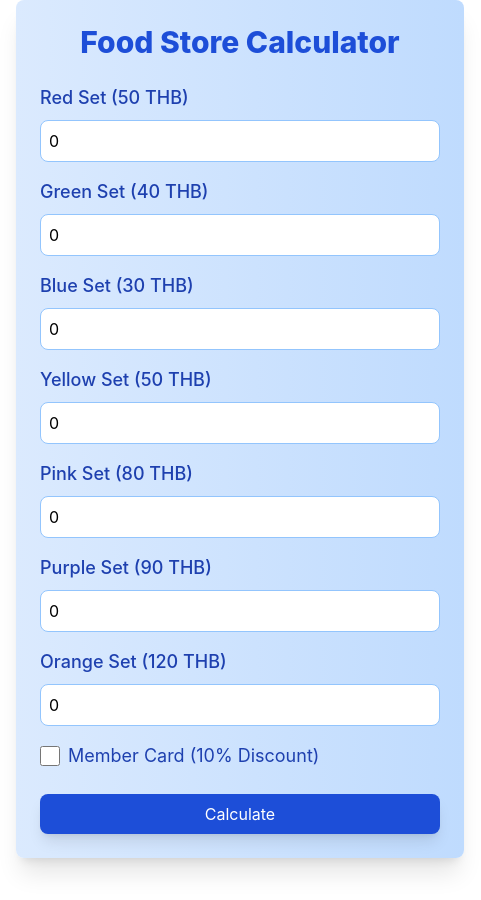
Calculator Component › calculates base price correctly
Replace the text in the number field labelled "Red Set (50 THB)" with "1": (240, 141) [40,120,440,162]
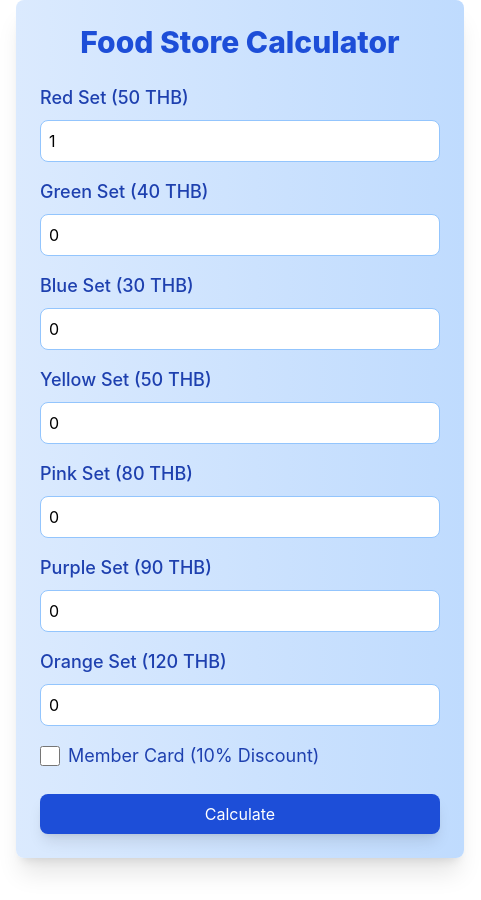
Replace the text in the number field labelled "Green Set (40 THB)" with "1": (240, 235) [40,214,440,256]
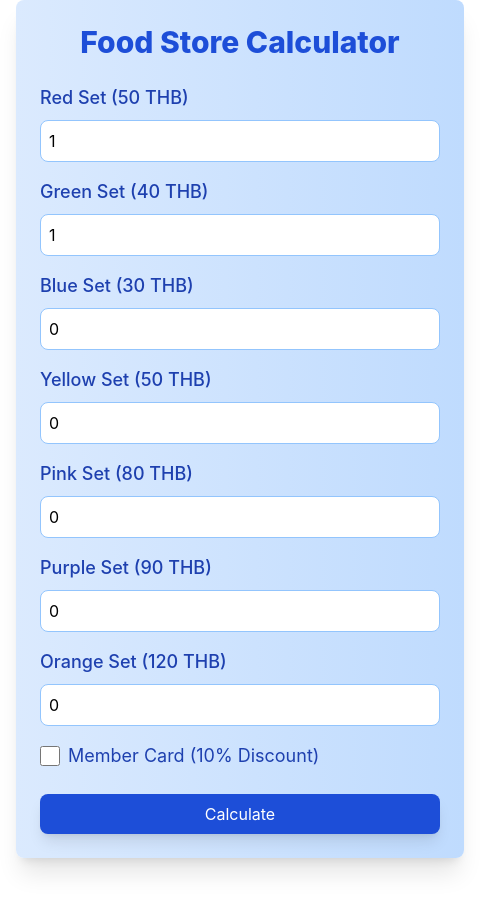
Click the button "Calculate": (240, 814) [40,794,440,834]
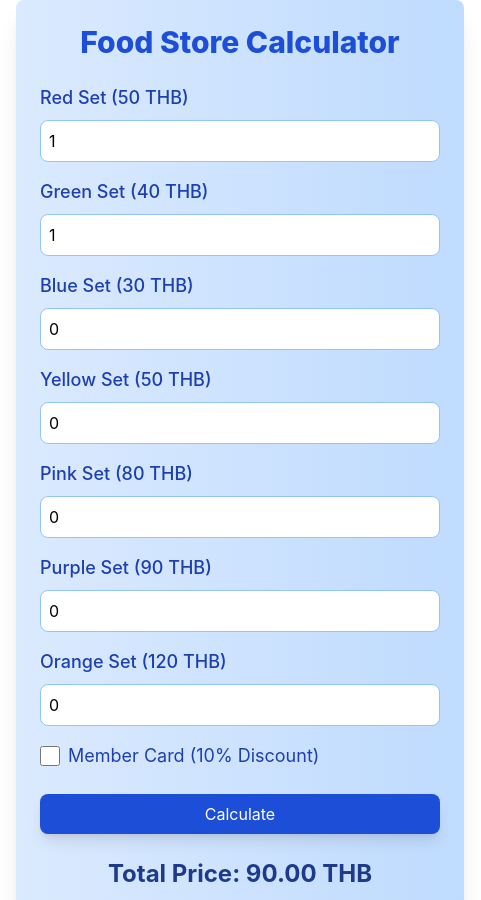
Expected: the text "Total Price: 90.00 THB" is shown, [108,859,372,888]
